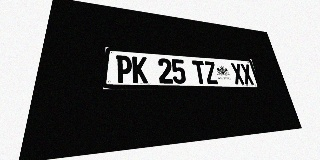2: (158, 58, 173, 84)
5: (171, 59, 187, 84)
K: (132, 56, 148, 83)
P: (116, 55, 132, 83)
T: (192, 60, 207, 84)
X: (240, 63, 255, 85), (230, 63, 245, 84)
Z: (203, 61, 219, 84)
